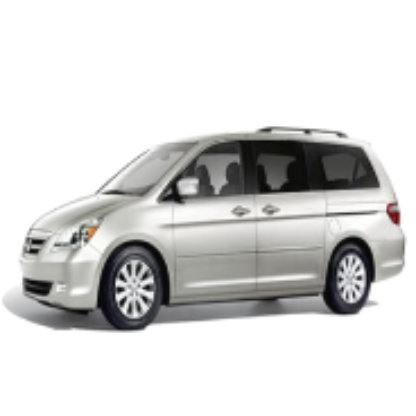Vehicle: (21, 127, 408, 336)
